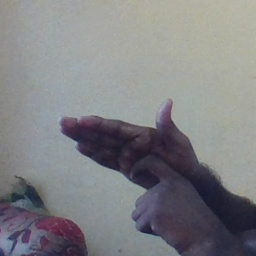R: (56, 97, 198, 231)
